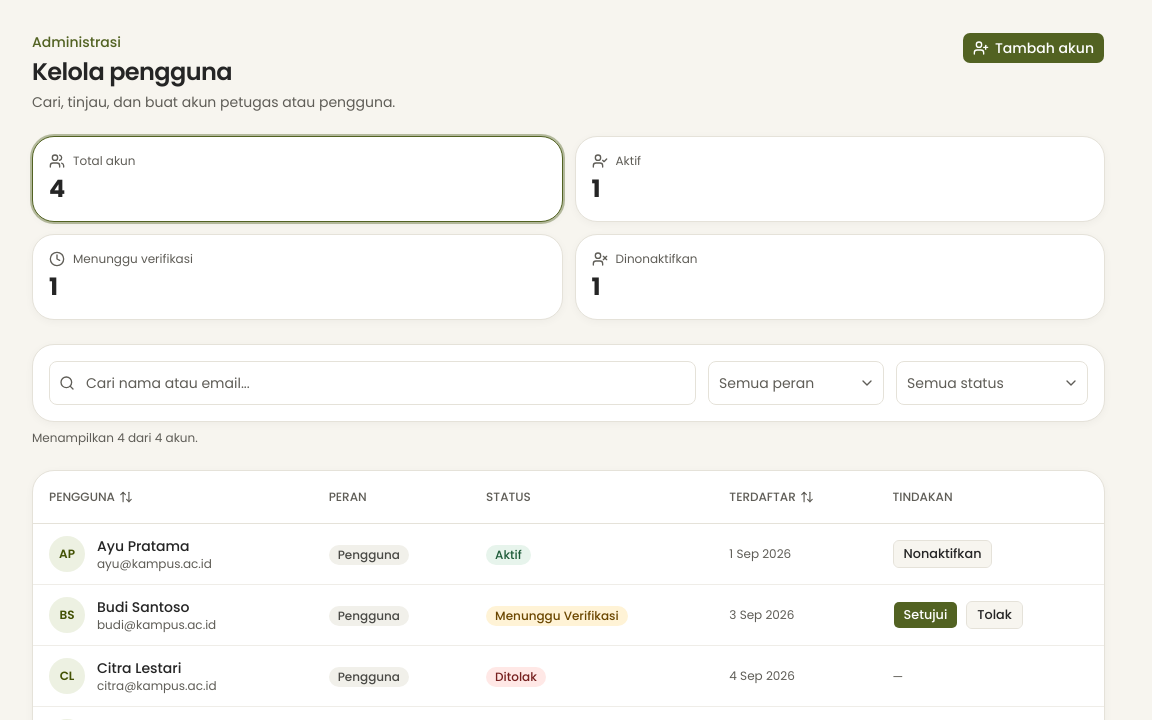
AdminUsers (kelola akun) › membuka formulir buat akun dari Sheet saat tombol tambah ditekan
Click the button "Tambah akun": (1033, 48) [962,32,1105,64]
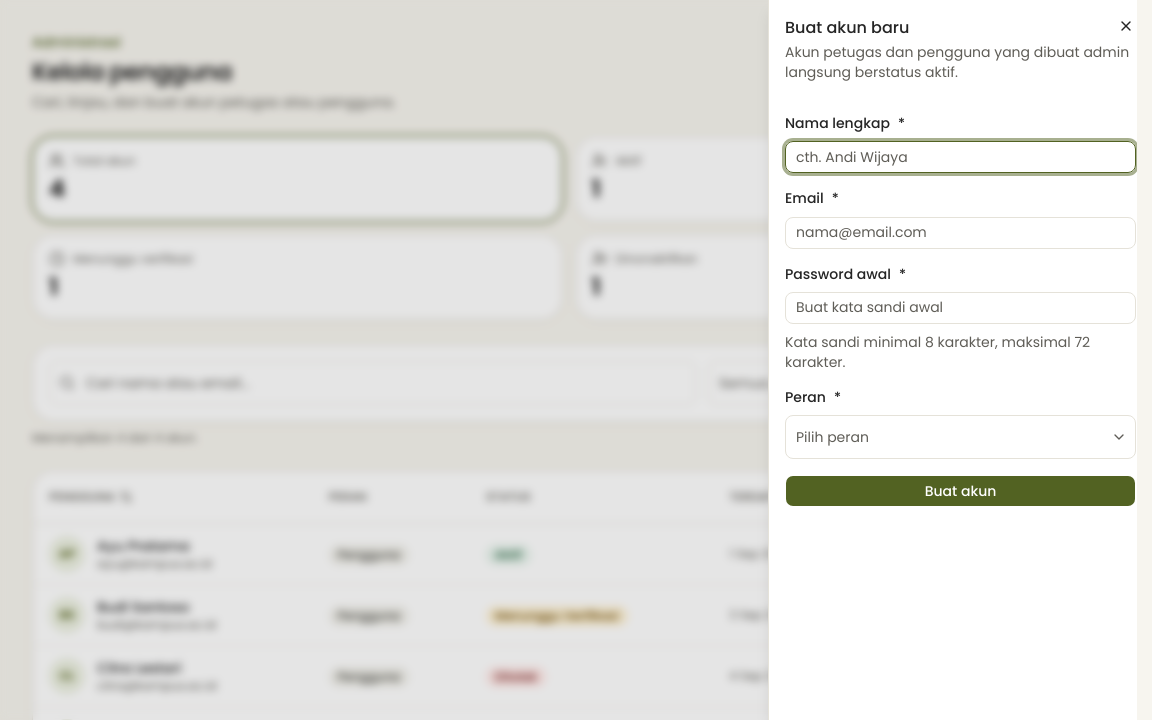
expect the dialog "Buat akun baru" is shown: met, box [768,0,1151,719]
expect the field labelled "Nama lengkap *" is shown: met, box [785,141,1136,173]
expect the field labelled "Email *" is shown: met, box [785,216,1136,248]
